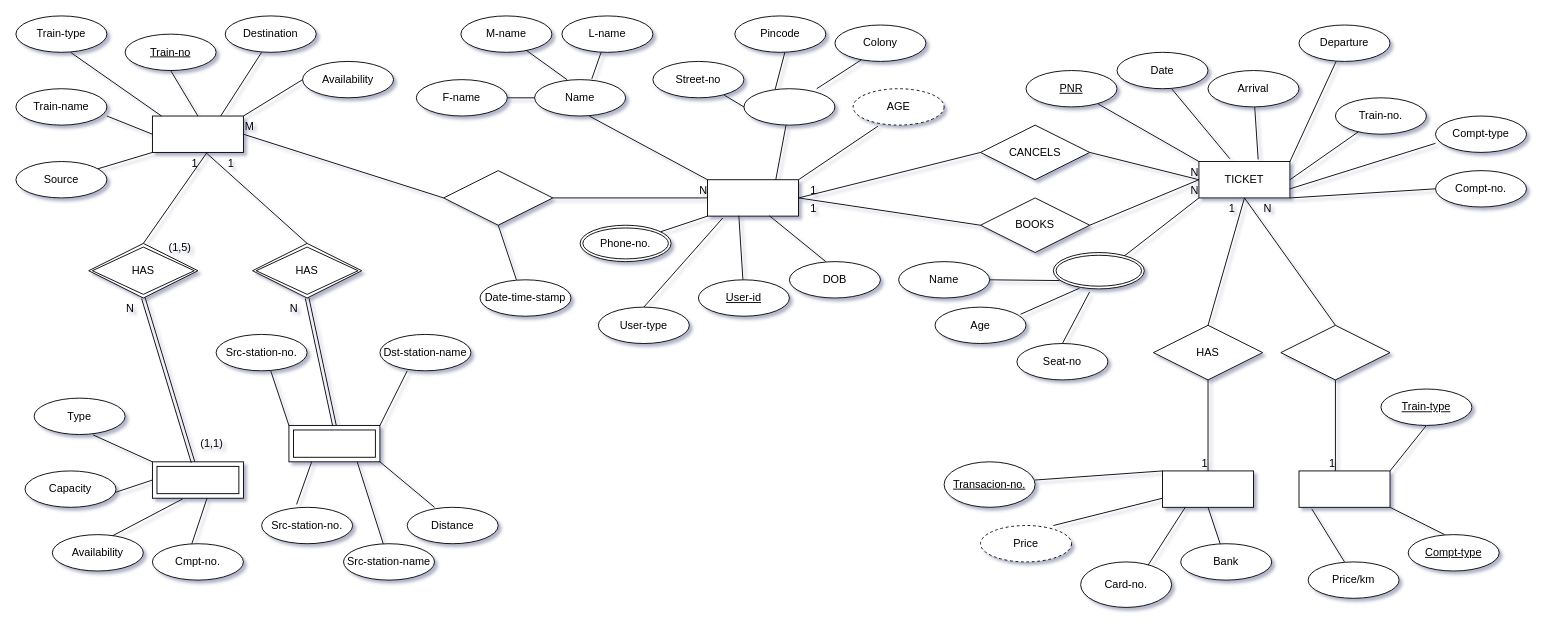
Some shapes in this 1548 by 629 pixel diagram are drawn without their labels. Here are the shapes that lost their labels. From the top down, the box of each, then its label:
(743, 88, 835, 125): Address
(152, 115, 243, 152): TRAIN
(443, 170, 553, 225): CHECKS
(707, 179, 799, 216): USER
(1052, 252, 1144, 289): User-info
(1280, 324, 1390, 380): Relationship
(288, 425, 380, 462): Route-Info
(152, 461, 243, 498): Compartment
(1162, 470, 1254, 507): Payment-Info
(1298, 470, 1390, 507): Fair-Table
